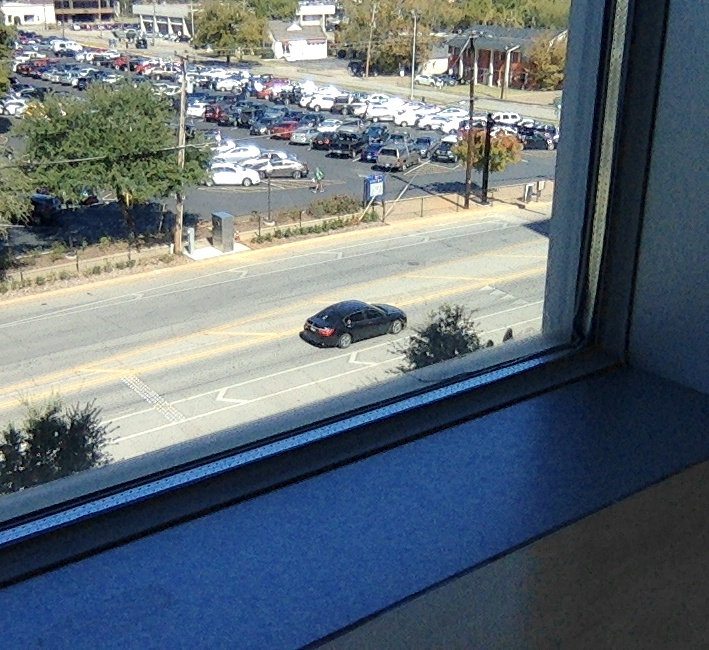car: (300, 300, 409, 350)
